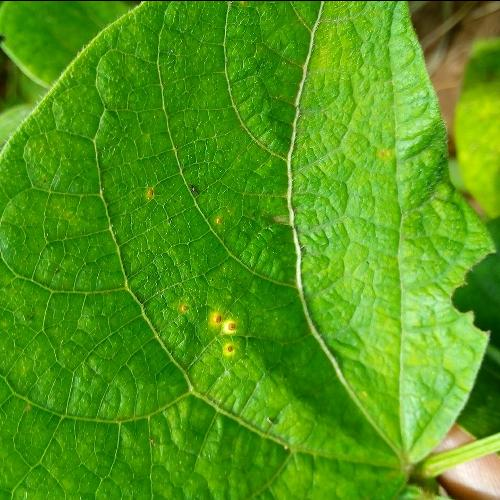hawar: (433, 232, 500, 360), (205, 294, 244, 368)
mozaik: (12, 125, 178, 460)
